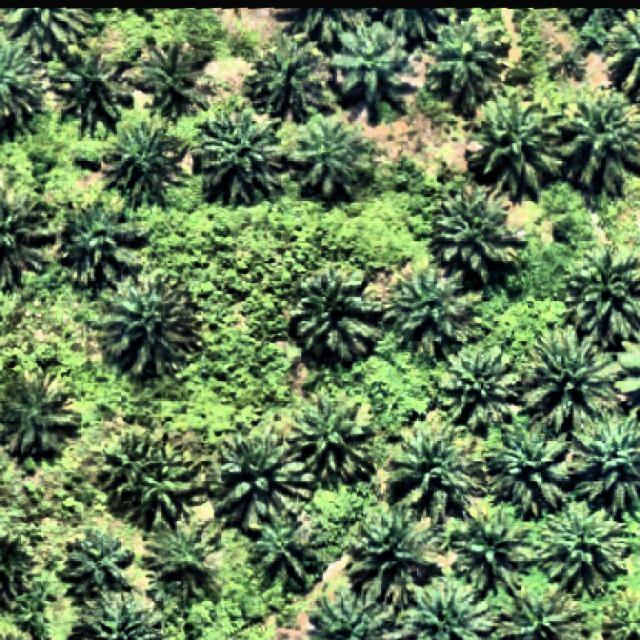Kelapa_Sawit: (98, 266, 204, 386), (512, 324, 626, 432), (382, 409, 480, 528), (470, 85, 564, 203), (210, 432, 315, 534), (195, 100, 292, 208), (532, 498, 634, 598), (434, 183, 531, 286), (390, 257, 484, 363), (484, 420, 578, 522), (295, 266, 383, 374), (344, 508, 438, 607), (60, 188, 143, 300), (100, 116, 188, 210), (335, 13, 417, 112), (51, 36, 132, 136), (291, 112, 374, 206), (296, 396, 378, 490), (434, 343, 520, 432), (246, 32, 332, 120), (429, 10, 506, 101), (454, 507, 530, 596), (142, 517, 218, 605), (132, 35, 205, 114), (134, 454, 206, 528), (64, 526, 134, 602), (250, 517, 324, 588), (101, 430, 154, 501)
